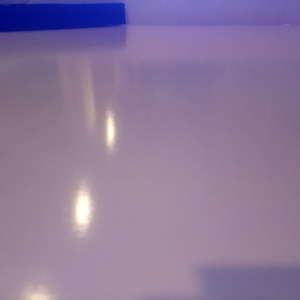zone: (1, 4, 127, 31)
